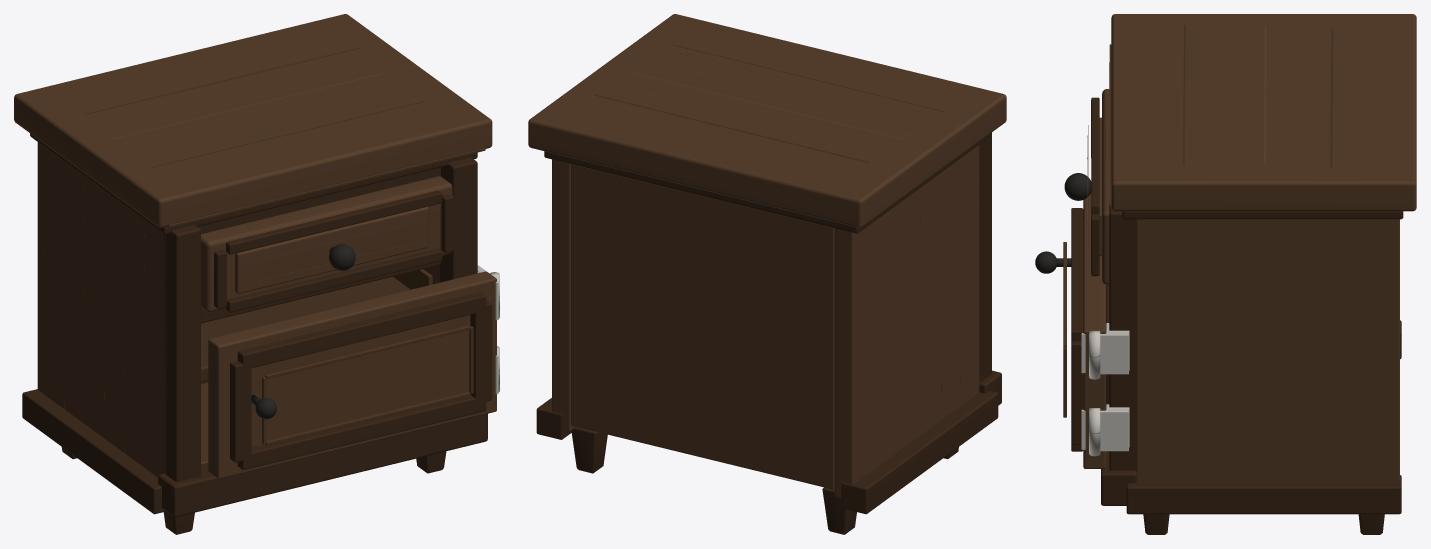
The model's file is bedside-table-with-drawer.glb.
The picture shows the model from 3 angles, left to right: view 1: azimuth 30°, elevation 25°; view 2: azimuth 150°, elevation 25°; view 3: azimuth 270°, elevation 25°; orthographic projection. The views are drawn at different scales.
Parts seen in each view (by area): view 1: overhanging_thick_clean_beveled_top_slab_static, left_solid_side_panel_static, lower_cabinet_door_panel_ORIGIN_AT_RIGHT_HINGE_AXIS_ARTICULA, front_bottom_plinth_rail_static, front_left_vertical_stile_static, drawer_front_recessed_center_panel_SLIDING_PART, drawer_front_raised_walnut_face_SLIDING_PART, left_side_base_plinth_static, door_top_raised_frame_rail_ARTICULATED, door_bottom_raised_frame_rail_ARTICULATED, middle_storage_shelf_visible_static, front_right_vertical_stile_with_hinges_static (+14 smaller); view 2: rear_shadowed_back_panel_static, overhanging_thick_clean_beveled_top_slab_static, left_solid_side_panel_static, left_side_base_plinth_static, right_solid_side_panel_static, front_left_vertical_stile_static, recessed_shadow_line_under_top_lip_static, tapered_square_foot_static.003, tapered_square_foot_static.001, right_side_base_plinth_static; view 3: right_solid_side_panel_static, overhanging_thick_clean_beveled_top_slab_static, right_side_base_plinth_static, front_right_vertical_stile_with_hinges_static, lower_cabinet_door_panel_ORIGIN_AT_RIGHT_HINGE_AXIS_ARTICULA, recessed_shadow_line_under_top_lip_static, door_top_raised_frame_rail_ARTICULATED, drawer_front_raised_walnut_face_SLIDING_PART, fixed_hinge_side_to_pin_folded_bridge_1_STATIC, fixed_hinge_side_to_pin_folded_bridge_0_STATIC, door_right_hinge_frame_stile_ARTICULATED, front_bottom_plinth_rail_static (+8 smaller).
Part boxes in pixels (x1,y1,x2,y2): overhanging_thick_clean_beveled_top_slab_static: (14, 14, 492, 227); left_solid_side_panel_static: (37, 142, 166, 477); lower_cabinet_door_panel_ORIGIN_AT_RIGHT_HINGE_AXIS_ARTICULA: (208, 271, 496, 478); front_bottom_plinth_rail_static: (158, 413, 487, 517); front_left_vertical_stile_static: (163, 225, 200, 481); drawer_front_recessed_center_panel_SLIDING_PART: (235, 206, 428, 293); drawer_front_raised_walnut_face_SLIDING_PART: (201, 176, 452, 312); left_side_base_plinth_static: (22, 389, 166, 514); door_top_raised_frame_rail_ARTICULATED: (237, 292, 486, 369); door_bottom_raised_frame_rail_ARTICULATED: (237, 395, 486, 470); middle_storage_shelf_visible_static: (201, 276, 410, 382); front_right_vertical_stile_with_hinges_static: (439, 157, 477, 282); rear_shadowed_back_panel_static: (571, 164, 834, 489); overhanging_thick_clean_beveled_top_slab_static: (528, 14, 1006, 227); left_solid_side_panel_static: (834, 145, 979, 497); left_side_base_plinth_static: (841, 391, 998, 514); right_solid_side_panel_static: (552, 159, 575, 431); front_left_vertical_stile_static: (979, 135, 991, 384); recessed_shadow_line_under_top_lip_static: (544, 132, 991, 233); tapered_square_foot_static.003: (571, 427, 607, 473); tapered_square_foot_static.001: (822, 487, 856, 534); right_side_base_plinth_static: (536, 398, 571, 439); right_solid_side_panel_static: (1137, 219, 1399, 479); overhanging_thick_clean_beveled_top_slab_static: (1111, 14, 1416, 211); right_side_base_plinth_static: (1126, 475, 1401, 514); front_right_vertical_stile_with_hinges_static: (1109, 203, 1137, 479); lower_cabinet_door_panel_ORIGIN_AT_RIGHT_HINGE_AXIS_ARTICULA: (1083, 192, 1106, 468); recessed_shadow_line_under_top_lip_static: (1122, 211, 1403, 219); door_top_raised_frame_rail_ARTICULATED: (1071, 208, 1083, 341); drawer_front_raised_walnut_face_SLIDING_PART: (1102, 89, 1109, 284); fixed_hinge_side_to_pin_folded_bridge_1_STATIC: (1100, 408, 1128, 451); fixed_hinge_side_to_pin_folded_bridge_0_STATIC: (1100, 332, 1128, 374); door_right_hinge_frame_stile_ARTICULATED: (1071, 341, 1083, 444); front_bottom_plinth_rail_static: (1101, 451, 1136, 505).
Size of what is drawn, in the model's own units: 0.665 by 0.6769 by 0.631.
